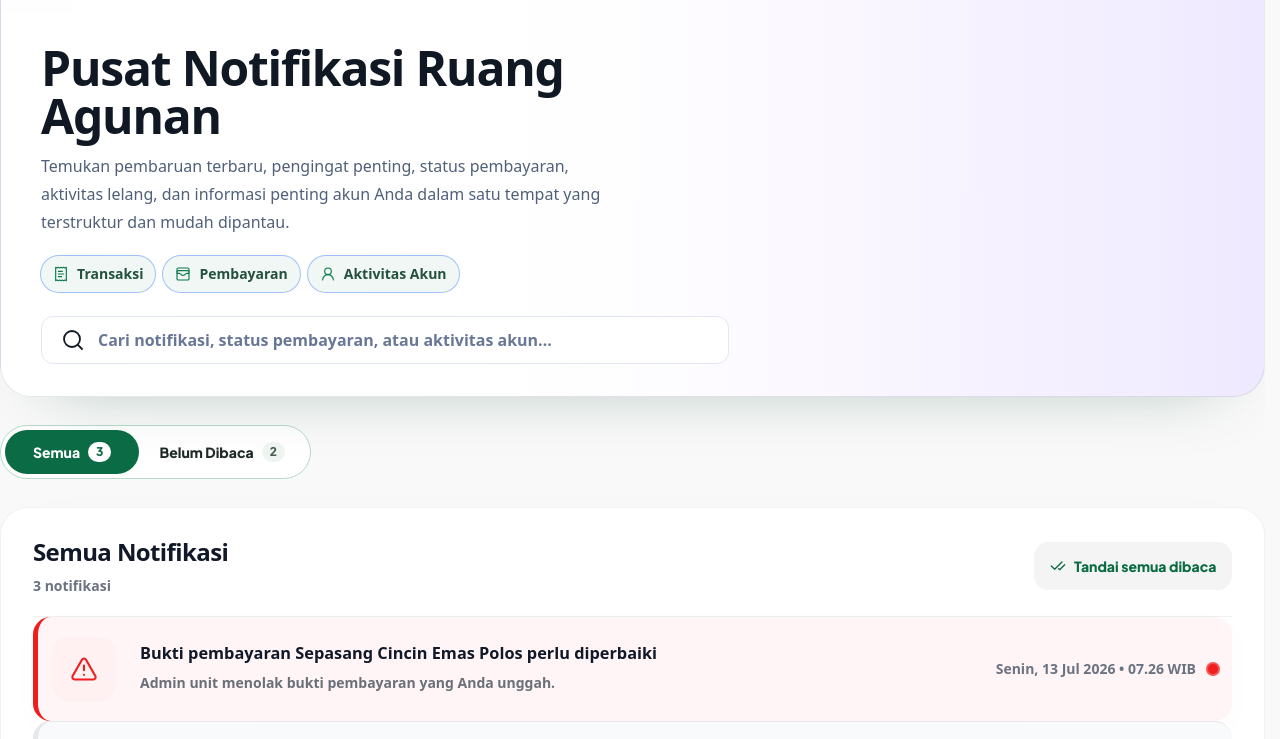
it: BuyerNotificationsPage › filters unread notifications and marks all notifications as read
Click the button "Belum Dibaca 2".
click(223, 452)  # box [139, 430, 306, 474]
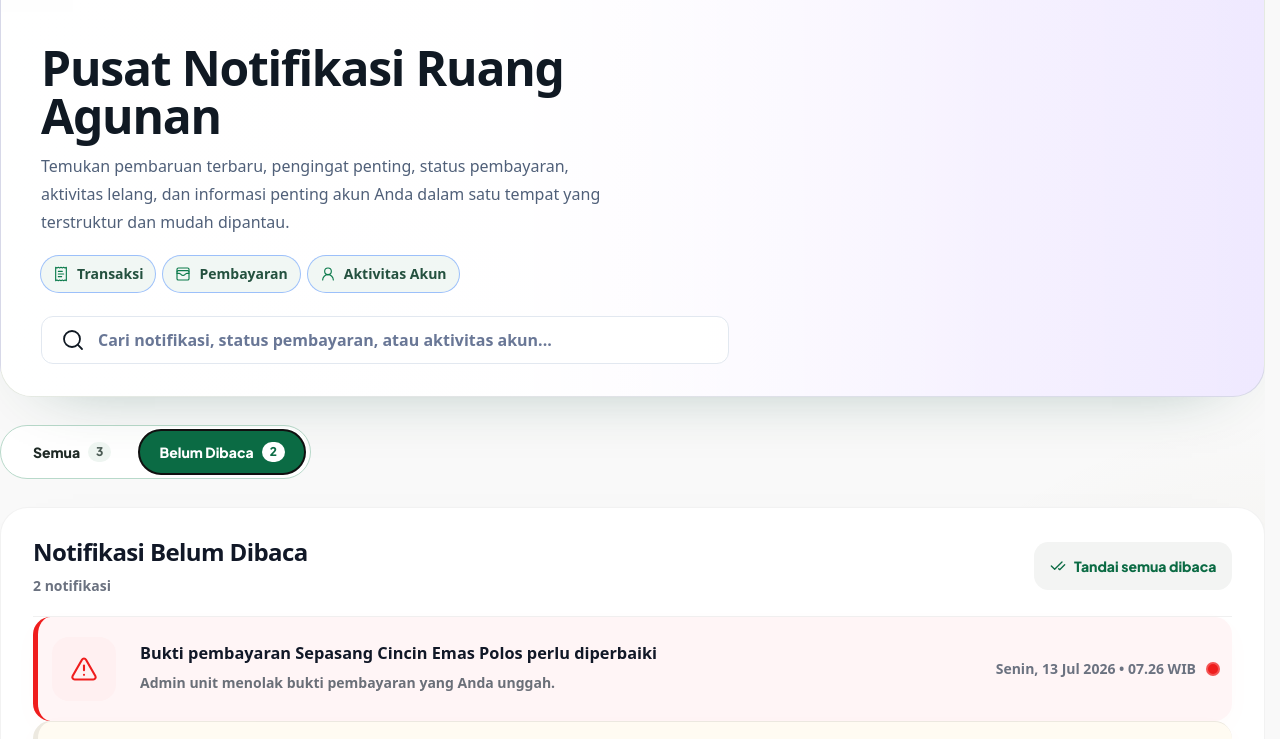
Now the heading "Notifikasi Belum Dibaca" is shown, box [33, 536, 308, 568]
Now the text "2 notifikasi" is shown, box [33, 576, 111, 595]
Click the button "Tandai semua dibaca".
click(1133, 566)  # box [1034, 542, 1232, 590]
(page scrolled)
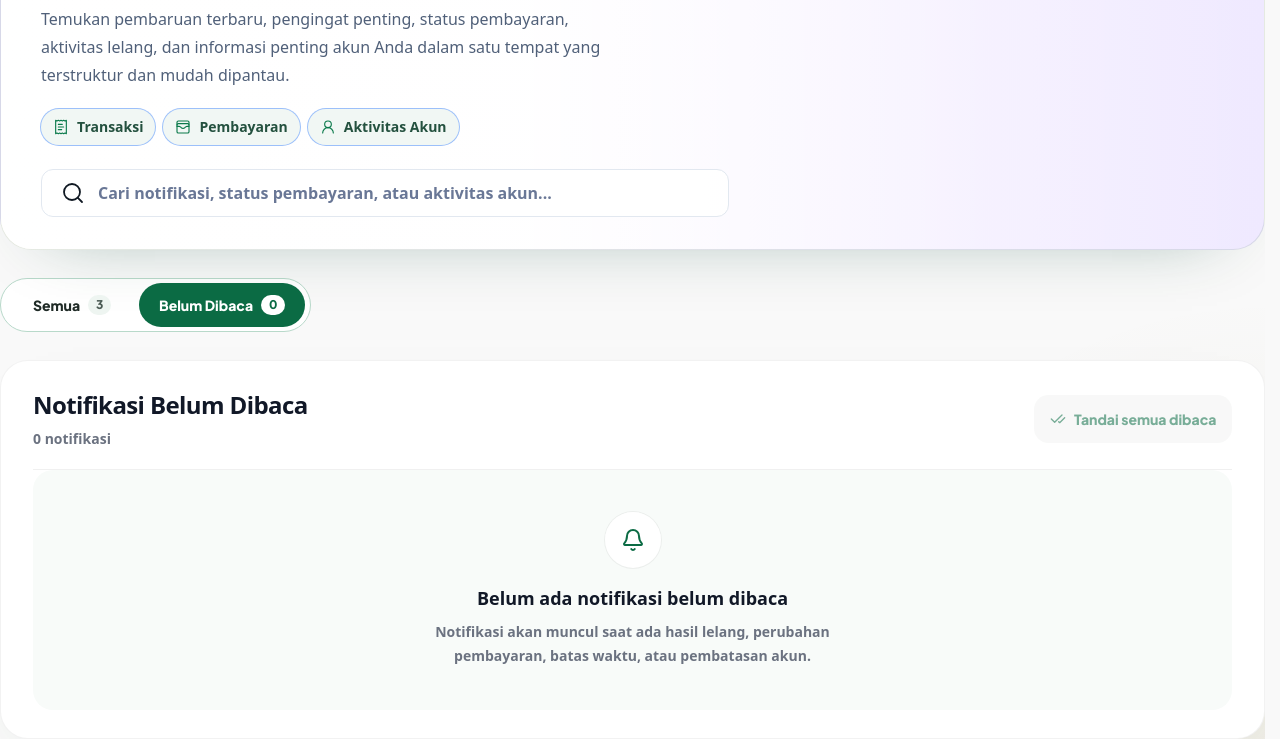
Now the button "Belum Dibaca 0" is shown, box [139, 283, 306, 327]
Now the heading "Belum ada notifikasi belum dibaca" is shown, box [477, 586, 788, 610]
